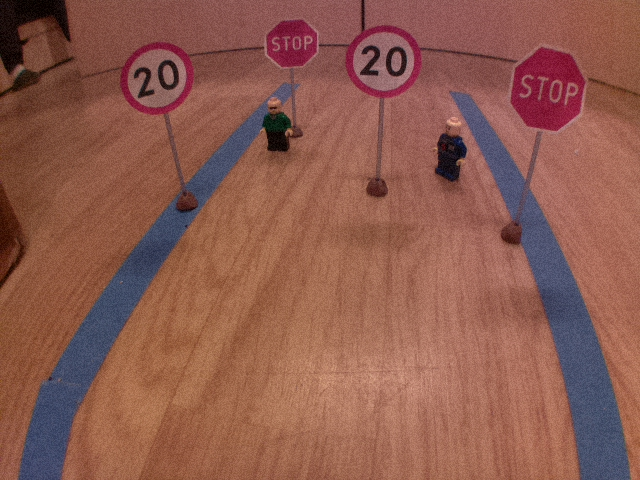LEGO_person: (430, 113, 471, 188), (259, 95, 295, 155)
ogr_20: (117, 37, 199, 119), (340, 21, 425, 100)
stop: (504, 40, 592, 136), (261, 14, 322, 72)
